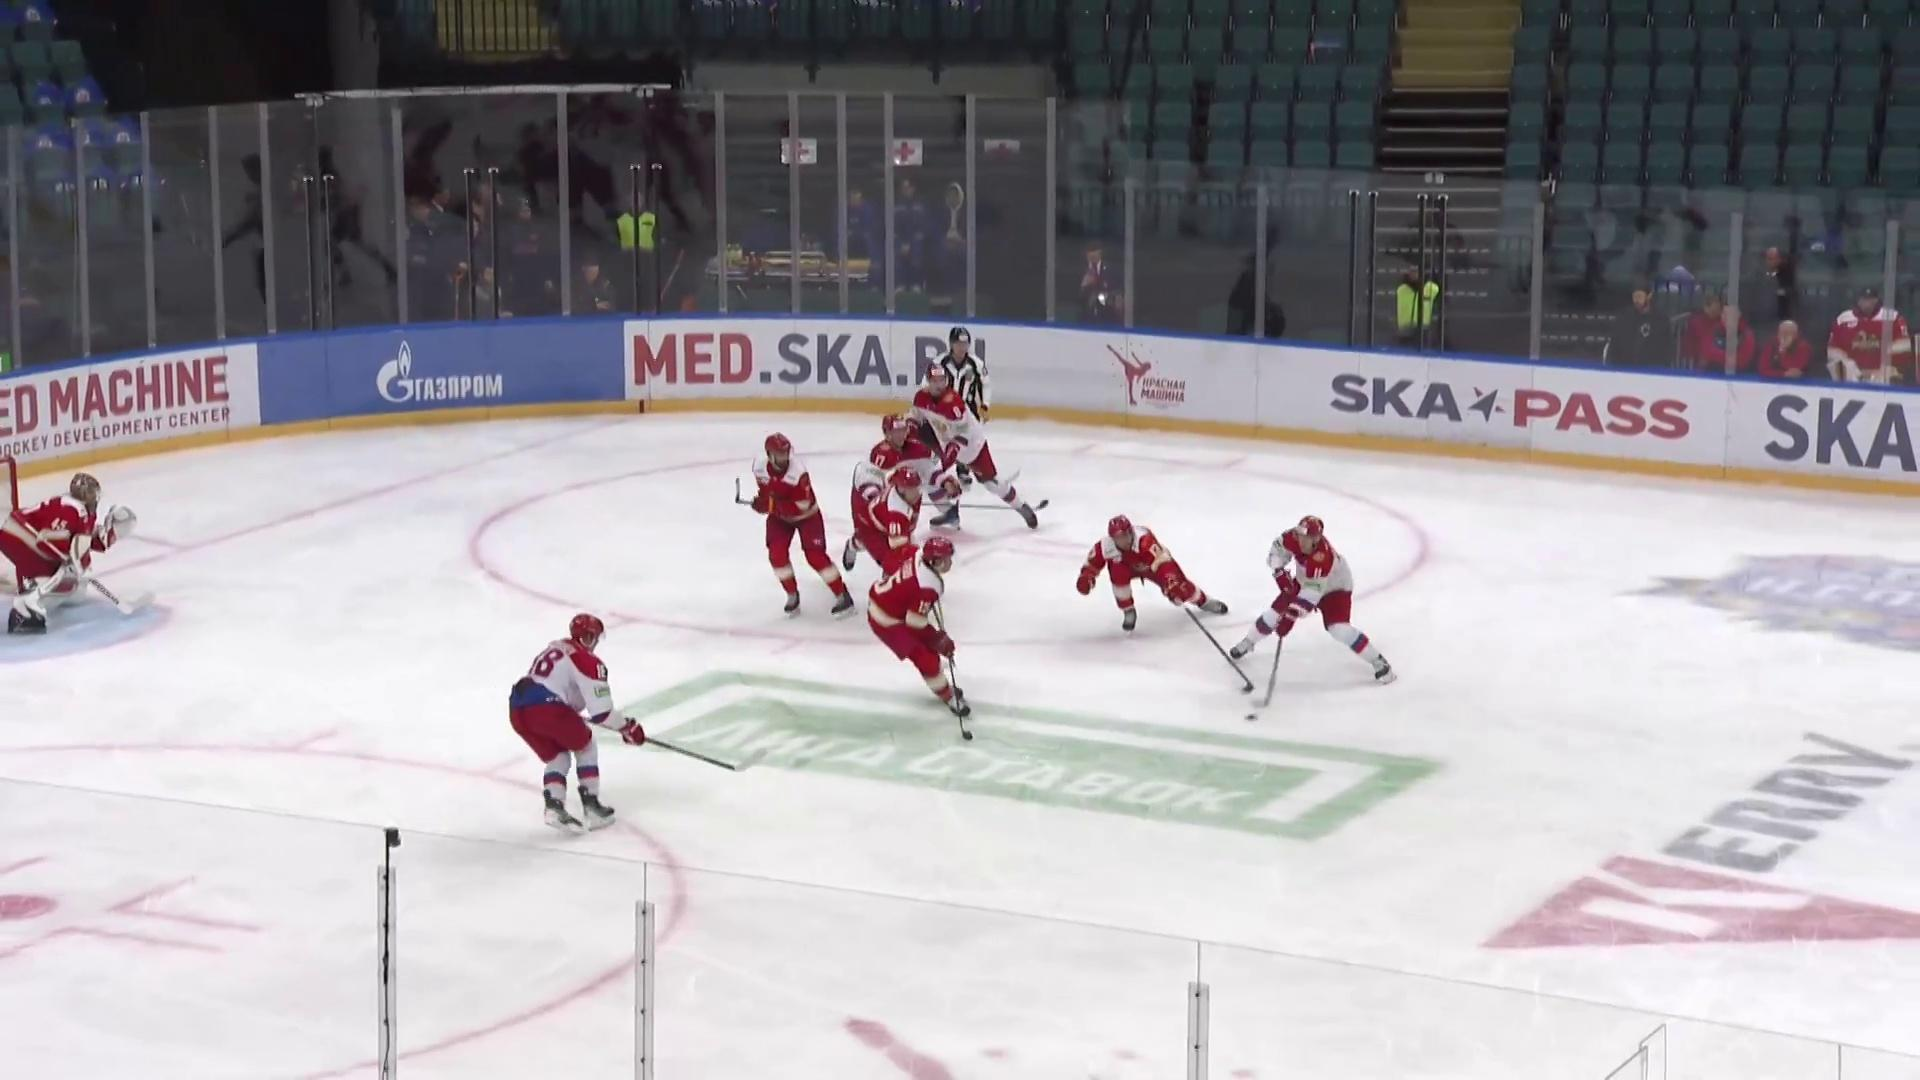ball: (1242, 711, 1259, 724)
